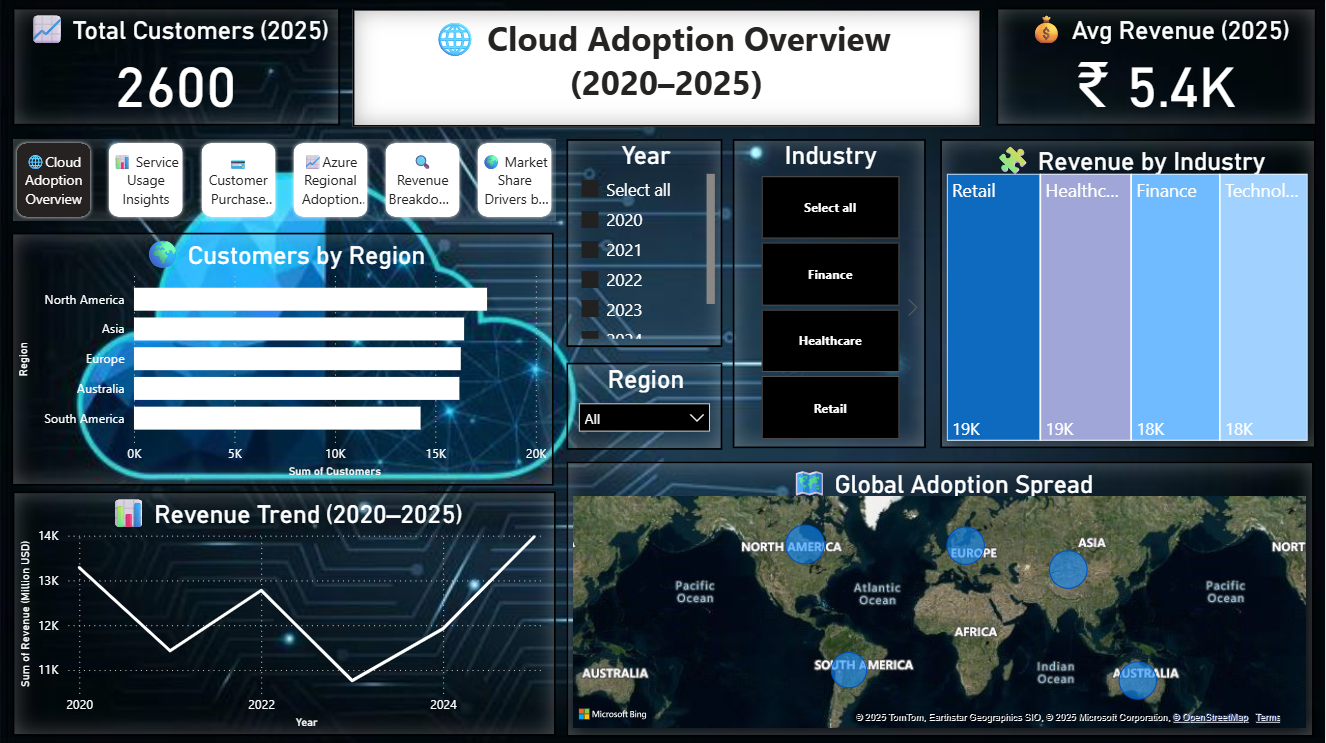

The dashboard page shown, as its layout file describes it:
{"tool":"powerbi","page":{"name":"🌐Cloud Adoption Overview","canvas":[1280,720],"ordinal":0},"visuals":[{"type":"card","title":"📈 Total Customers (2025)","fields":{"Values":["Sum(azure_growth_metrics.Total Customers)"]},"box":[13,8.7,316,114],"z":0},{"type":"card","title":"💰 Avg Revenue (2025)","fields":{"Values":["Sum(azure_growth_metrics.Avg. Revenue (USD))"]},"box":[962.3,8.7,308.8,114],"z":1000},{"type":"textbox","box":[341.5,9.2,606.2,113.8],"z":2000},{"type":"lineChart","title":"📊 Revenue Trend (2020–2025)","fields":{"Category":["azure_growth_metrics.Year"],"Y":["Sum(azure_revenue_extended.Revenue (Million USD))"]},"box":[13.8,475,523.8,236.2],"z":3000},{"type":"barChart","title":"🌍 Customers by Region","fields":{"Category":["azure_revenue_extended.Region"],"Y":["Sum(azure_revenue_extended.Customers)"]},"box":[12.1,225.6,523.6,243.7],"z":4000},{"type":"treemap","title":"🧩 Revenue by Industry","fields":{"Values":["Sum(azure_revenue_extended.Revenue (Million USD))"],"Details":["azure_revenue_extended.Industry"]},"box":[908.9,135.6,362.1,298.7],"z":5000},{"type":"map","title":"🗺️ Global Adoption Spread","fields":{"Category":["azure_revenue_extended.Region"],"Size":["Sum(azure_revenue_extended.Customers)"]},"box":[548.2,445.8,721.4,265.5],"z":6000},{"type":"slicer","title":"Year","fields":{"Values":["azure_growth_metrics.Year"]},"box":[548.2,135.6,150,200.5],"z":7000},{"type":"slicer","title":"Region","fields":{"Values":["azure_revenue_extended.Region"]},"box":[548.2,350.6,150,83.7],"z":8000},{"type":"slicer","title":"Industry","fields":{"Values":["azure_revenue_extended.Industry"]},"box":[708.4,135.6,186.1,298.7],"z":9000},{"type":"pageNavigator","box":[13,135.6,525.2,79.4],"z":10000}]}

Visuals, with their boxes in screenshot pixels (x1, y1, x2, y2), scaled from the page's 1280x720 canvas onto the 1326x743 screenshot:
"📈 Total Customers (2025)" card: select_region(13, 9, 341, 127)
"💰 Avg Revenue (2025)" card: select_region(997, 9, 1317, 127)
textbox: select_region(354, 9, 982, 127)
"📊 Revenue Trend (2020–2025)" lineChart: select_region(14, 490, 557, 734)
"🌍 Customers by Region" barChart: select_region(13, 233, 555, 484)
"🧩 Revenue by Industry" treemap: select_region(942, 140, 1317, 448)
"🗺️ Global Adoption Spread" map: select_region(568, 460, 1315, 734)
"Year" slicer: select_region(568, 140, 723, 347)
"Region" slicer: select_region(568, 362, 723, 448)
"Industry" slicer: select_region(734, 140, 927, 448)
pageNavigator: select_region(13, 140, 558, 222)
